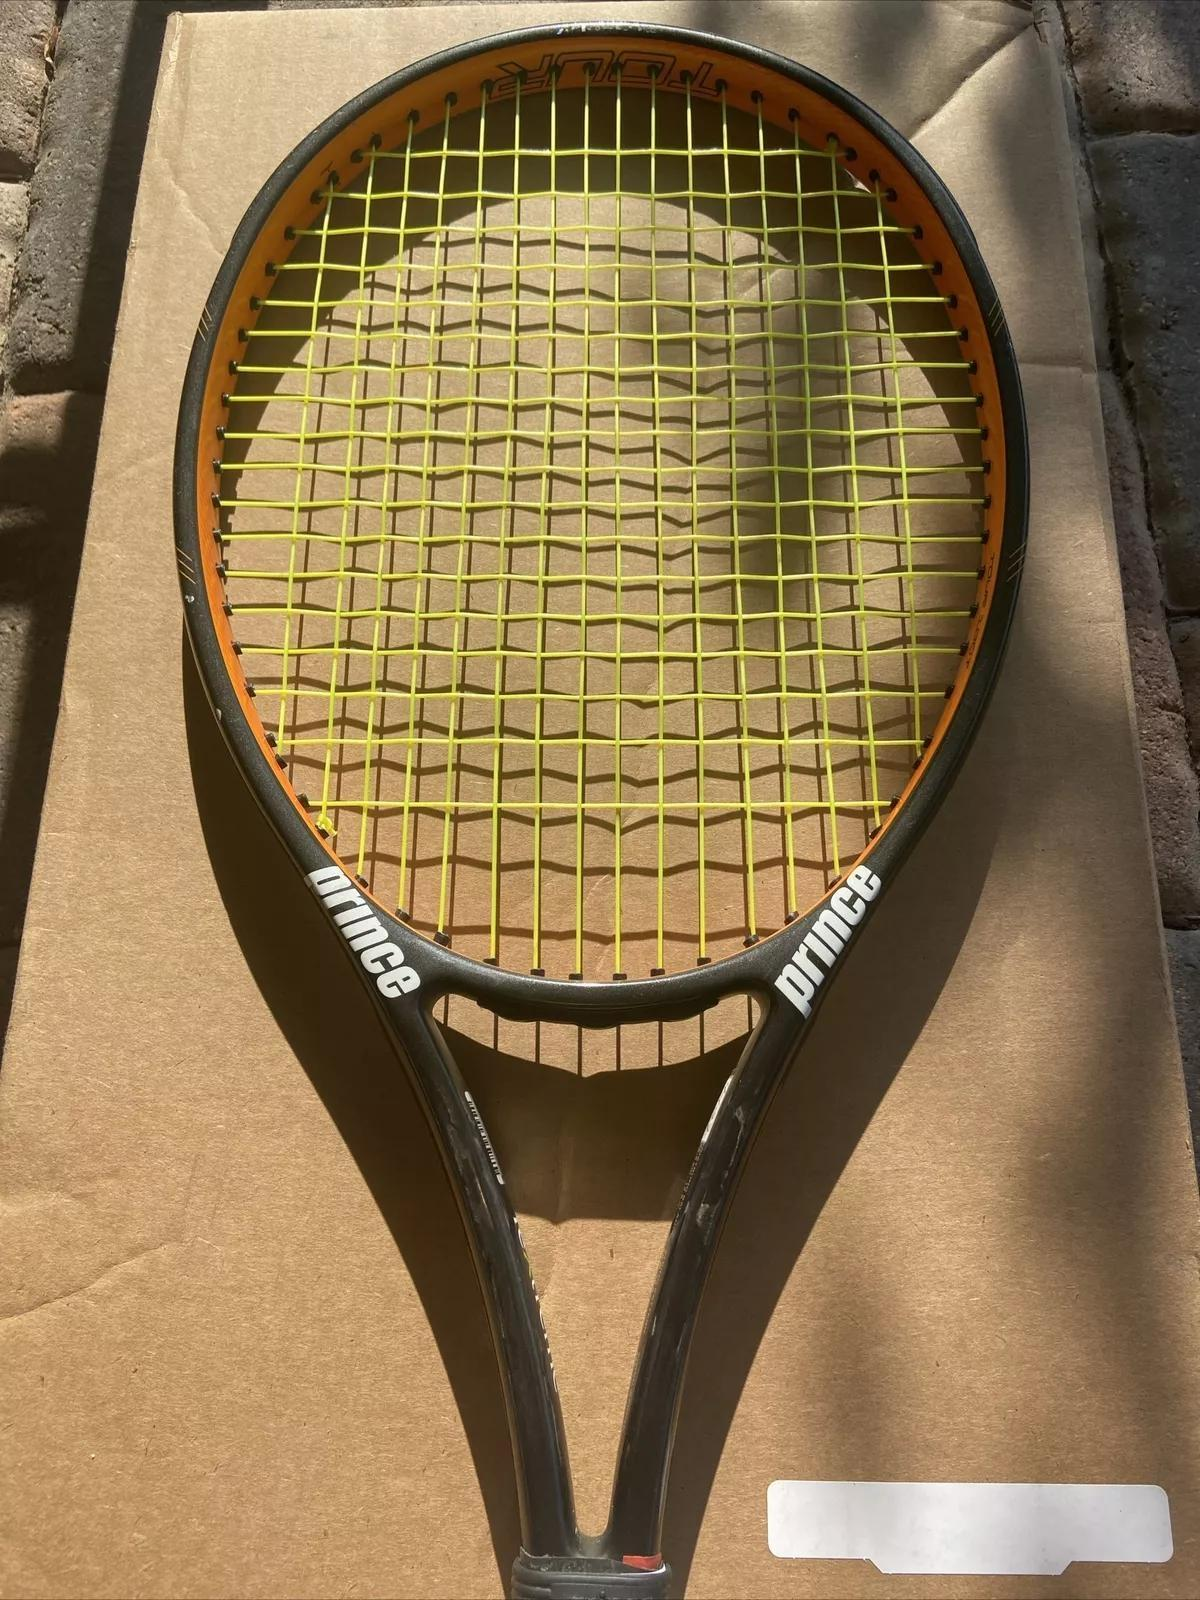Tennis-Racket: (175, 21, 1028, 1598)
